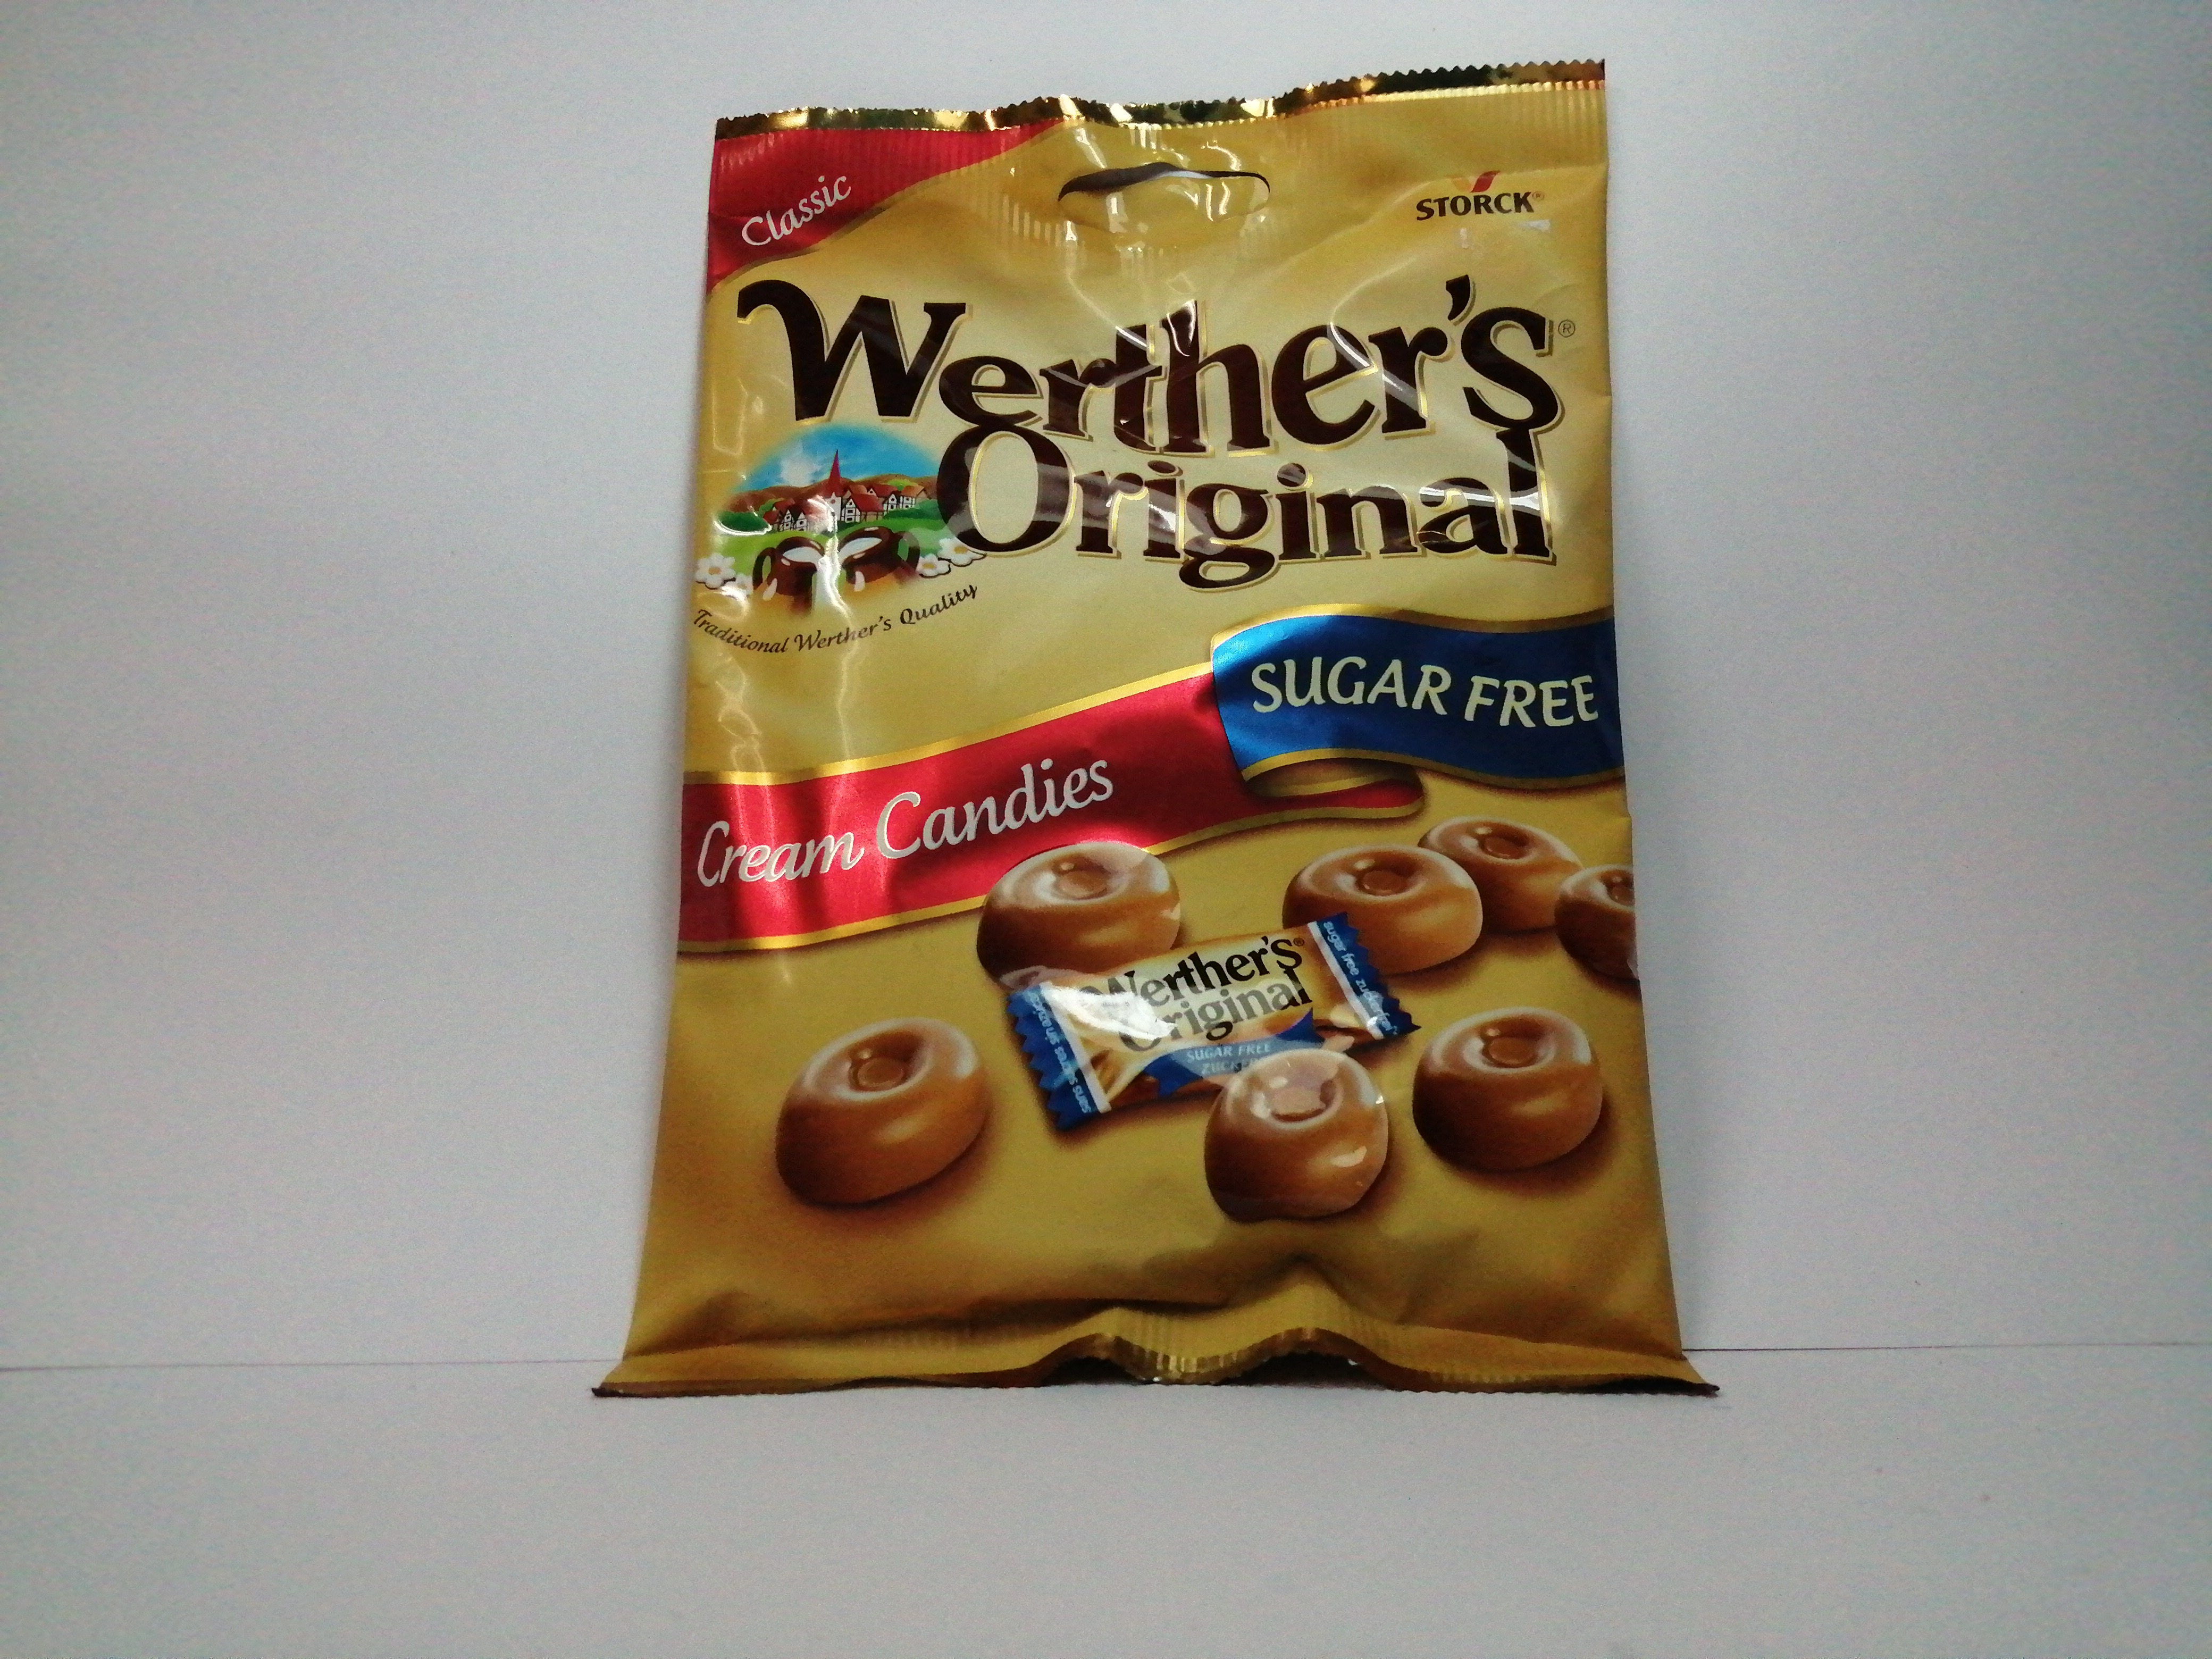dulces: (596, 59, 1707, 1405)
